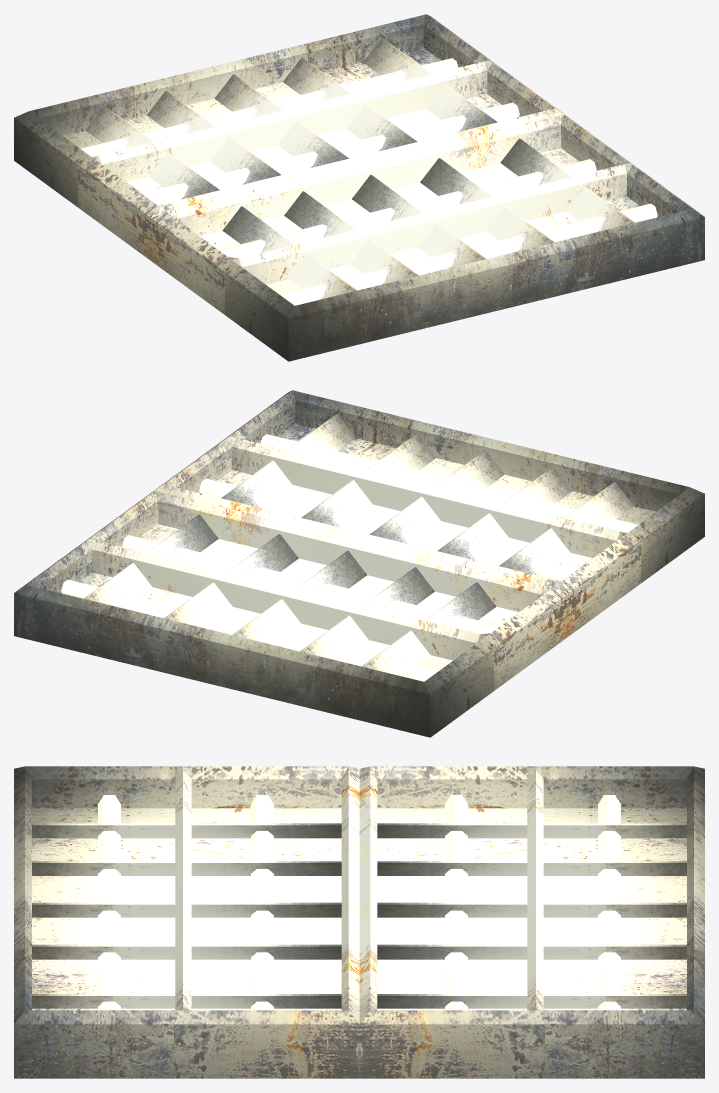
The model's file is Lights.fbx.
3 renders of one model, top to bottom at view 1: azimuth 30°, elevation 25°; view 2: azimuth 150°, elevation 25°; view 3: azimuth 270°, elevation 25°, orthographic. The views are drawn at different scales.
Parts seen in each view (by area): view 1: polySurface185; view 2: polySurface185; view 3: polySurface185.
Boxes of the visible parts, x1,y1,x2,y2 form: polySurface185: (14,14,704,361); polySurface185: (14,390,704,737); polySurface185: (14,766,704,1078).
Size of the model in its own units: 4.55 by 0.5233 by 5.19.
